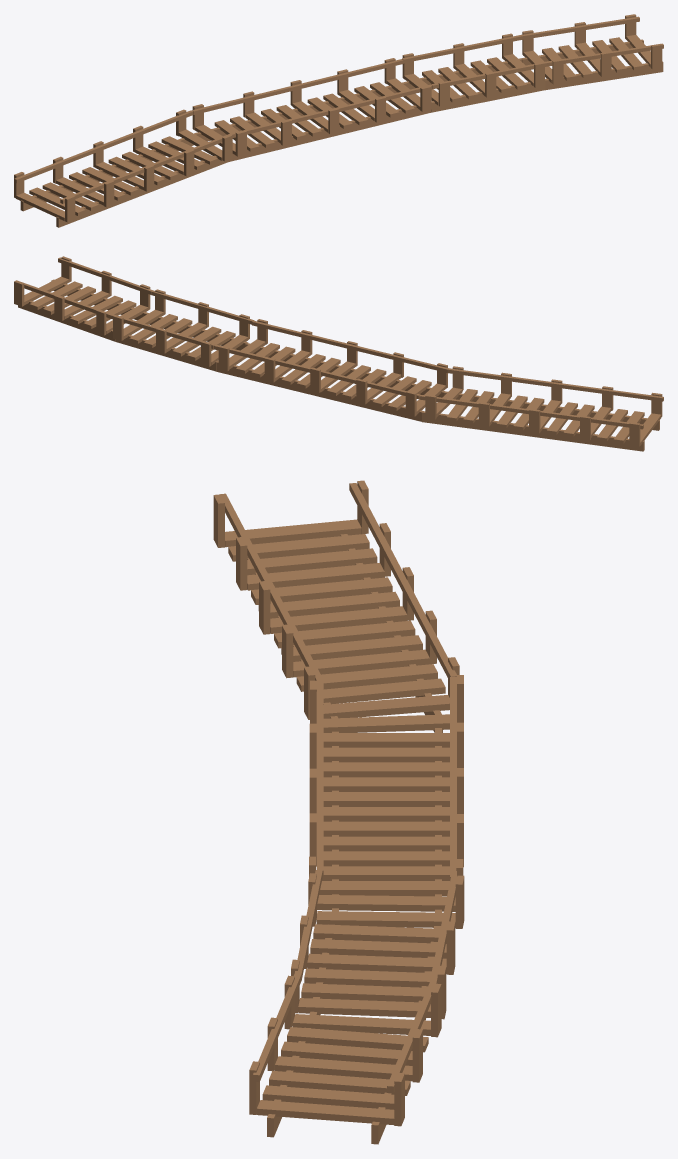
Rendered from bridgeB.glb.
3 renders of one model, top to bottom at view 1: azimuth 30°, elevation 25°; view 2: azimuth 150°, elevation 25°; view 3: azimuth 270°, elevation 25°, orthographic. The views are drawn at different scales.
Visible parts, largest first — view 1: Cube.012, Cube.025, Cube.055, Cube.051, Cube.028, Cube.087, Cube.057, Cube.066, Cube.084, Cube.085, Cube.013, Cube.086 (+35 smaller); view 2: Cube.042, Cube.013, Cube.057, Cube.028, Cube.055, Cube.025, Cube.071, Cube.065, Cube.068, Cube.086, Cube.051, Cube.012 (+36 smaller); view 3: Cube.055, Cube.074, Cube.022, Cube.067, Cube.002, Cube.004, Cube.008, Cube.003, Cube.009, Cube.050, Cube.062, Cube.011 (+34 smaller).
Part boxes in pixels (x1,y1,x2,y2): Cube.012: (228,105,430,162); Cube.025: (192,59,403,114); Cube.055: (14,110,193,183); Cube.051: (56,155,227,227); Cube.028: (231,84,432,137); Cube.087: (545,61,663,90); Cube.057: (60,133,232,203); Cube.066: (431,80,545,112); Cube.084: (402,35,522,62); Cube.085: (521,16,639,39); Cube.013: (196,81,408,141); Cube.086: (545,43,663,66); Cube.042: (422,411,644,451); Cube.013: (216,361,423,421); Cube.057: (447,368,663,401); Cube.028: (252,320,448,372); Cube.055: (419,394,643,429); Cube.025: (214,344,420,399); Cube.071: (115,335,217,371); Cube.065: (152,290,254,324); Cube.068: (18,301,115,341); Cube.086: (58,257,153,295); Cube.051: (444,391,659,430); Cube.012: (245,343,444,397); Cube.055: (349,483,456,681); Cube.074: (256,1100,394,1124); Cube.022: (317,895,455,911); Cube.067: (262,1085,394,1109); Cube.002: (323,821,449,836); Cube.004: (323,851,449,866); Cube.008: (323,762,449,777); Cube.003: (323,836,449,851); Cube.009: (323,747,449,762); Cube.050: (323,695,449,718); Cube.062: (307,953,446,973); Cube.011: (323,714,449,732).
Bounding box in the file's own units: 40.81 × 1.97 × 7.16.
